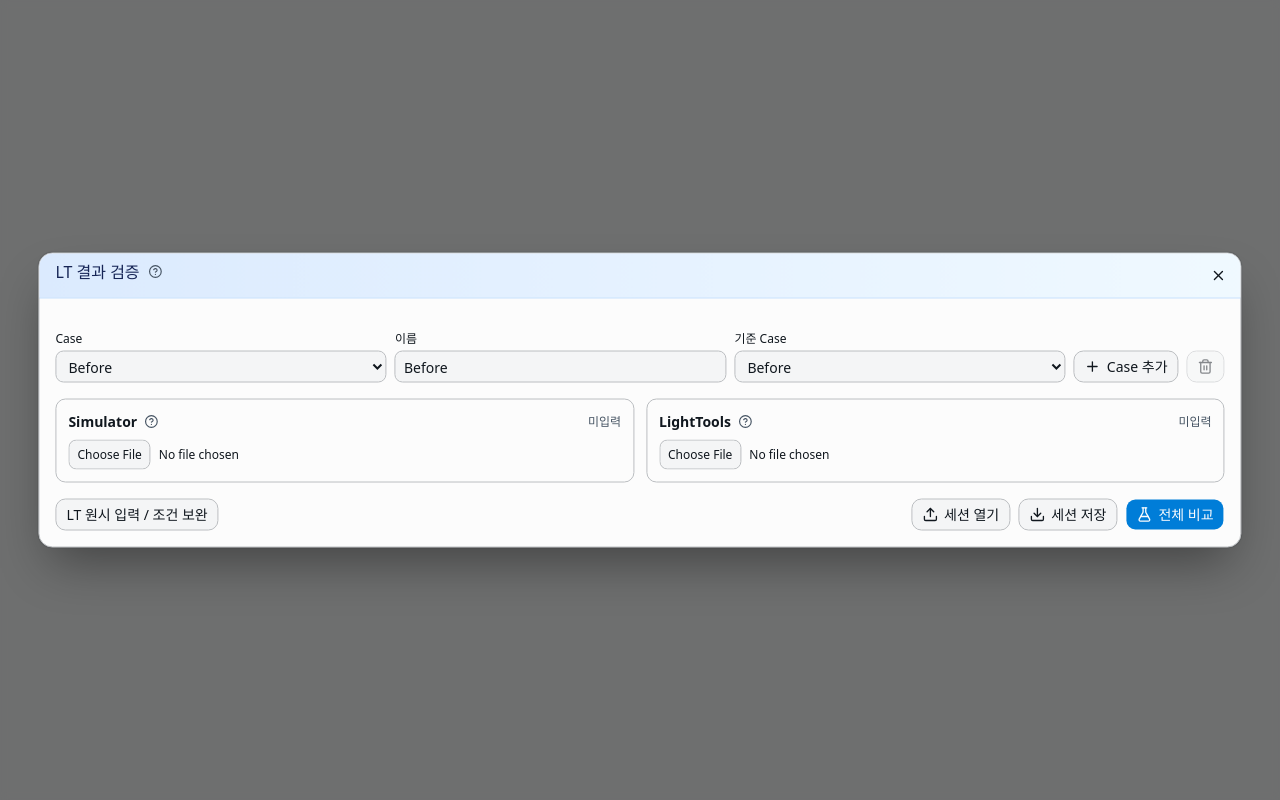
it: LT validation UI › does not render blocked pair metrics or plots even if a response contains numbers
Step 1. Click the button "전체 비교" → point(1175, 514), box 1125,498 -> 1225,530
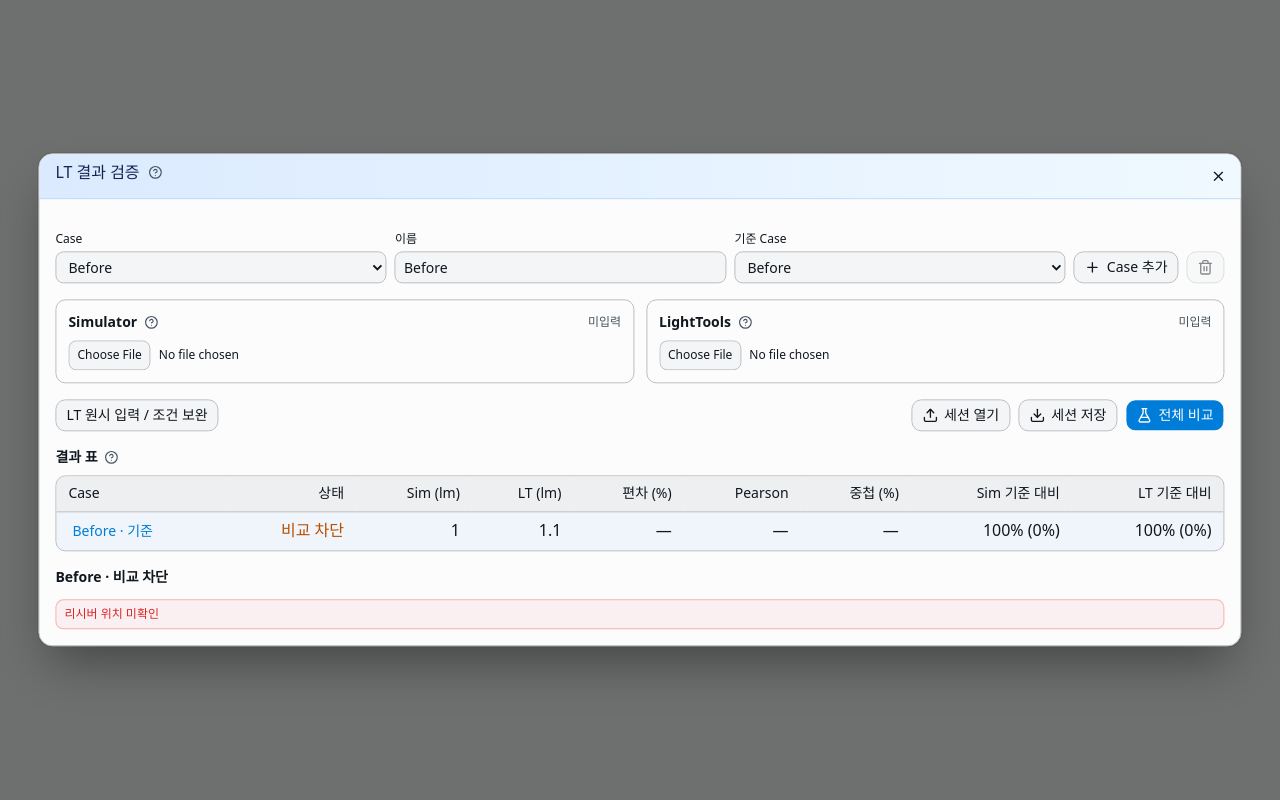
Expected: the list item "리시버 위치 미확인" is shown, 55,600 -> 1225,630
Expected: the text "1.1" is shown, 472,512 -> 573,551
